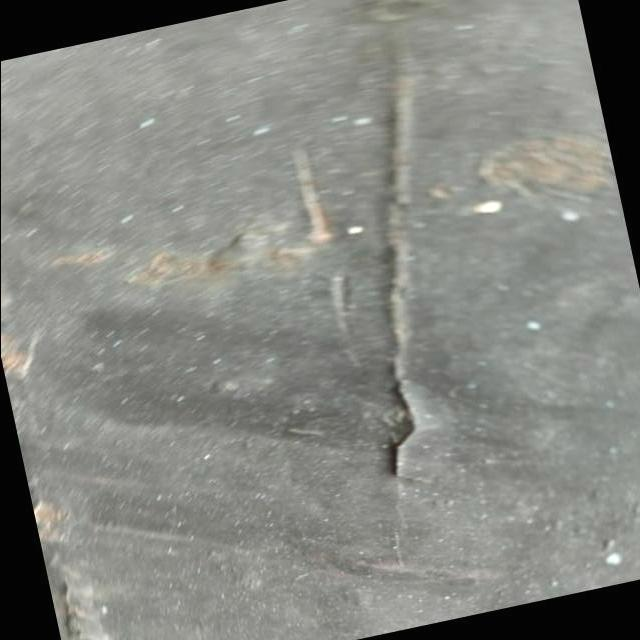defect: (381, 51, 426, 483)
